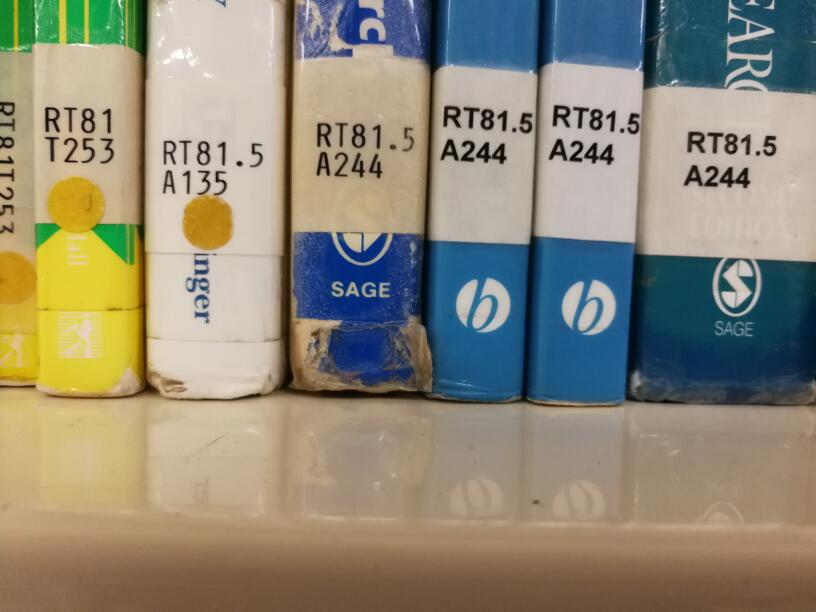booklabel: (312, 120, 417, 182), (159, 137, 267, 197), (546, 102, 642, 168), (438, 103, 536, 166), (681, 128, 780, 189), (41, 102, 116, 164)
